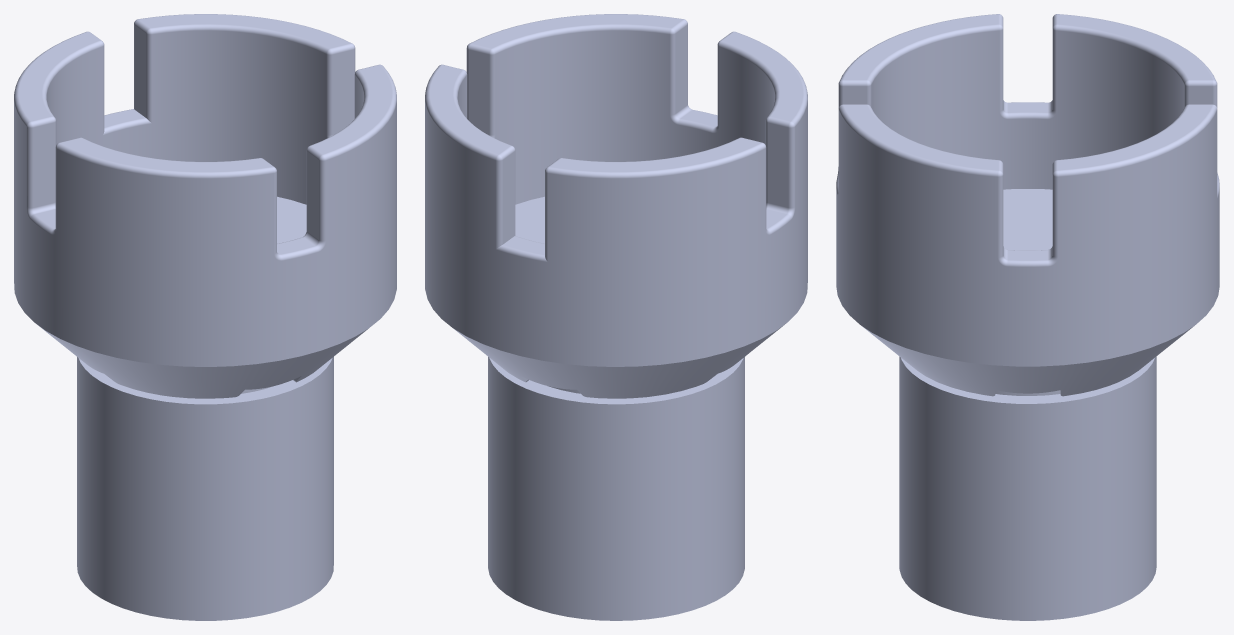
The model's file is Cup Holder Assembly.glb.
3 renders of one model, left to right at view 1: azimuth 30°, elevation 25°; view 2: azimuth 150°, elevation 25°; view 3: azimuth 270°, elevation 25°, orthographic.
Parts seen in each view (by area): view 1: Cup Holder TOP-1, Cup holder sleeve extension-1; view 2: Cup Holder TOP-1, Cup holder sleeve extension-1; view 3: Cup Holder TOP-1, Cup holder sleeve extension-1.
Boxes of the visible parts, bbox=[...] form: Cup Holder TOP-1: bbox=[14, 14, 396, 398]; Cup holder sleeve extension-1: bbox=[77, 357, 333, 620]; Cup Holder TOP-1: bbox=[425, 14, 807, 398]; Cup holder sleeve extension-1: bbox=[488, 357, 744, 620]; Cup Holder TOP-1: bbox=[836, 14, 1219, 396]; Cup holder sleeve extension-1: bbox=[899, 356, 1156, 620].
Bounding box in the file's own units: 0.1169 × 0.16 × 0.117.
